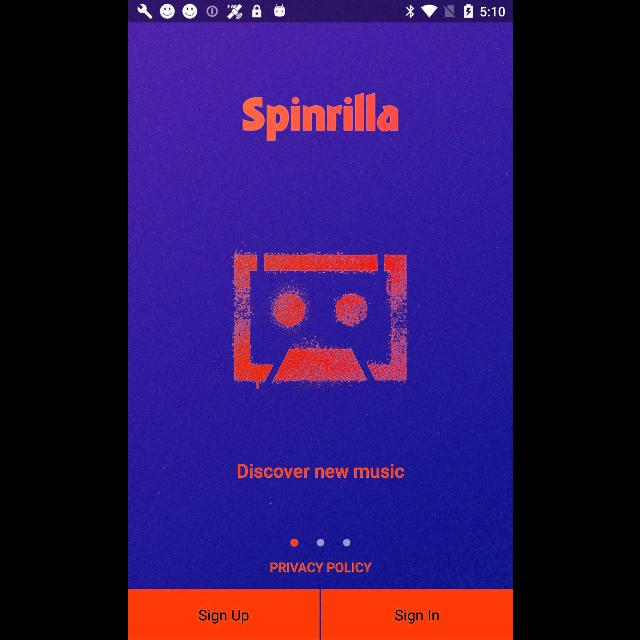image: (232, 249, 406, 389), (242, 93, 398, 141)
pageindicator: (290, 538, 350, 548)
text: (236, 464, 404, 478), (269, 562, 371, 572)
textbutton: (320, 590, 512, 640), (128, 590, 318, 640)
uppertaskbar: (128, 1, 512, 23)
